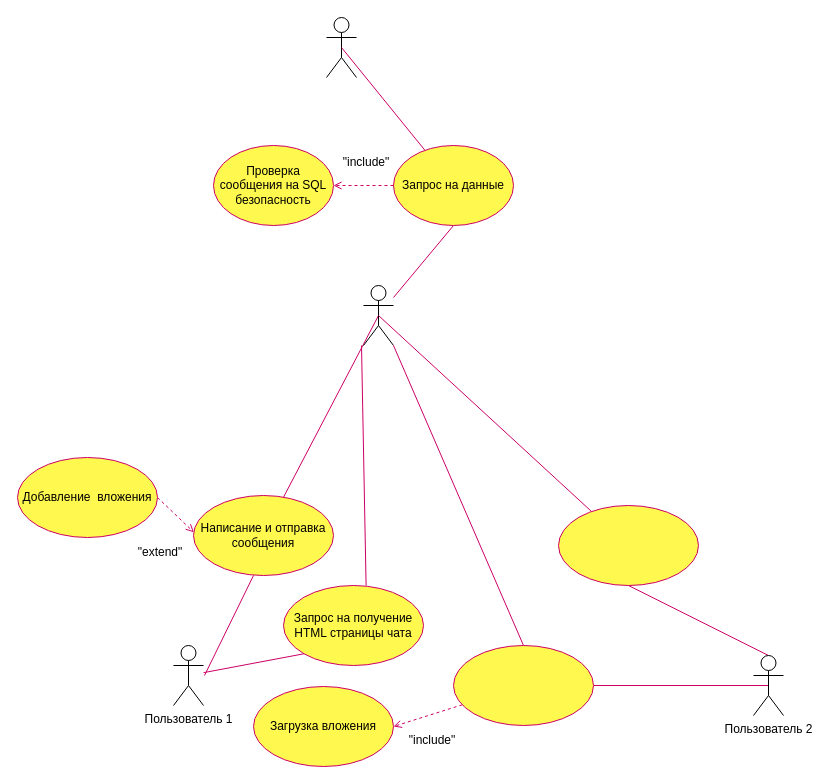
The diagram is 830 pixels wide and 784 high, and some of its shapes have lost their labels. Here are the shapes that lost their labels. From the top down, the centre of each, then its label:
the point at 341,47: База данных
the point at 378,315: Сервер
the point at 628,545: Переход по ссылке чата
the point at 523,685: HTML страница с сообщениями
